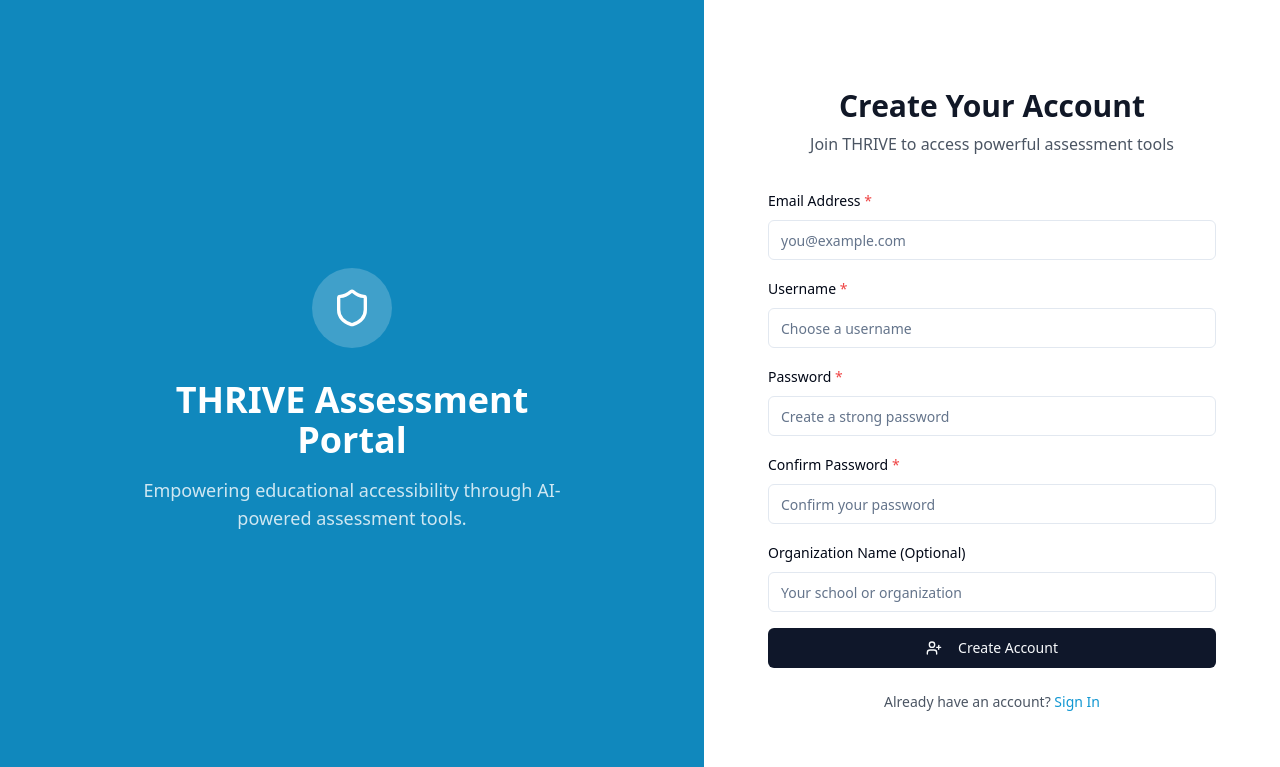
Scenario: Registration Components › RegistrationPage › validates password strength and shows error for weak password
The image size is (1280, 767).
Type "test@example.com" into the field with test id "input-email" at coordinates (992, 240), box [768,220,1216,260]
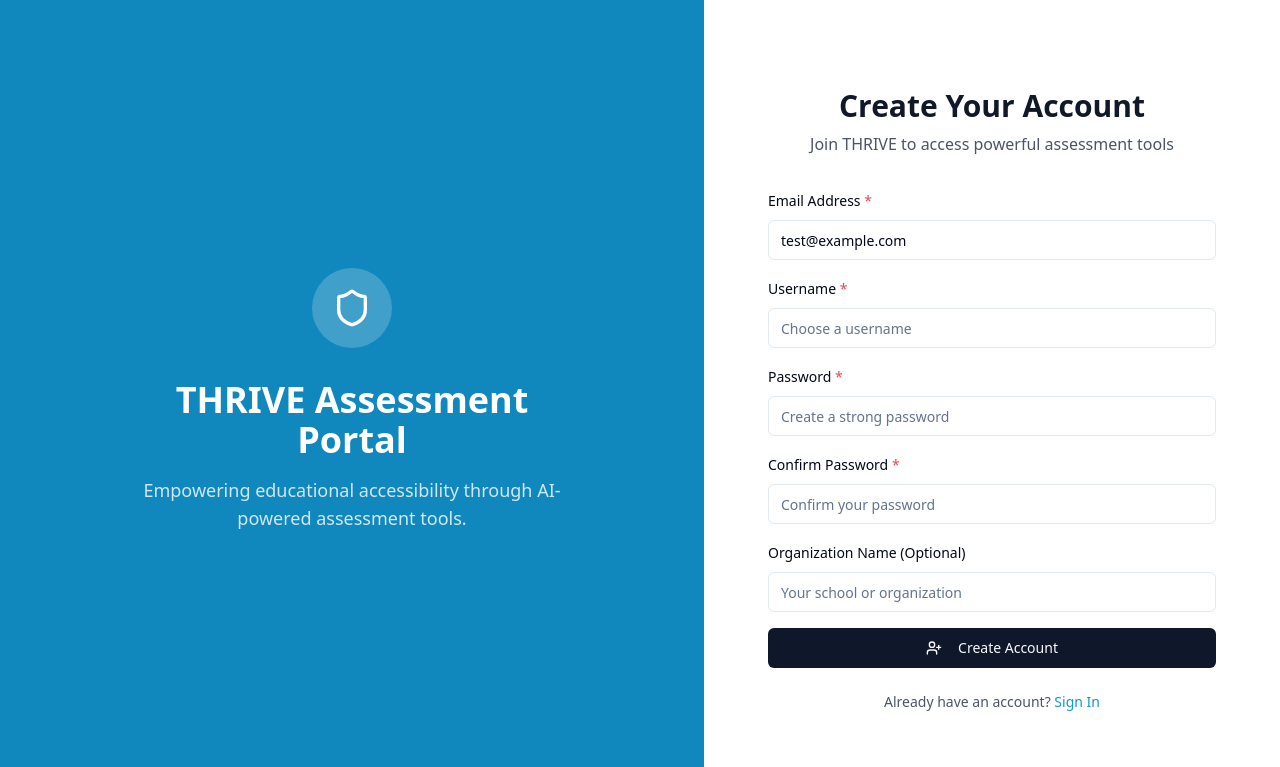
Type "testuser" into the field with test id "input-username" at coordinates (992, 328), box [768,308,1216,348]
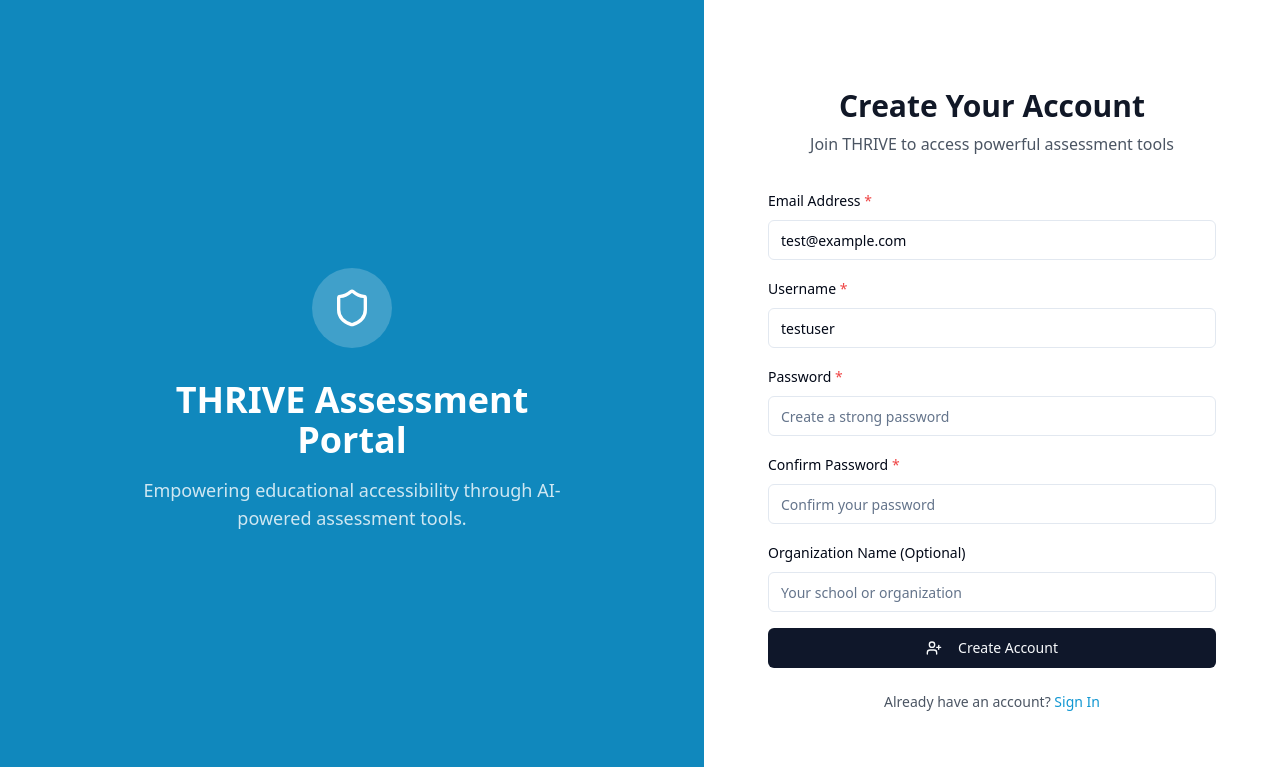
Type "weak" into the password field with test id "input-password" at coordinates (992, 416), box [768,396,1216,436]
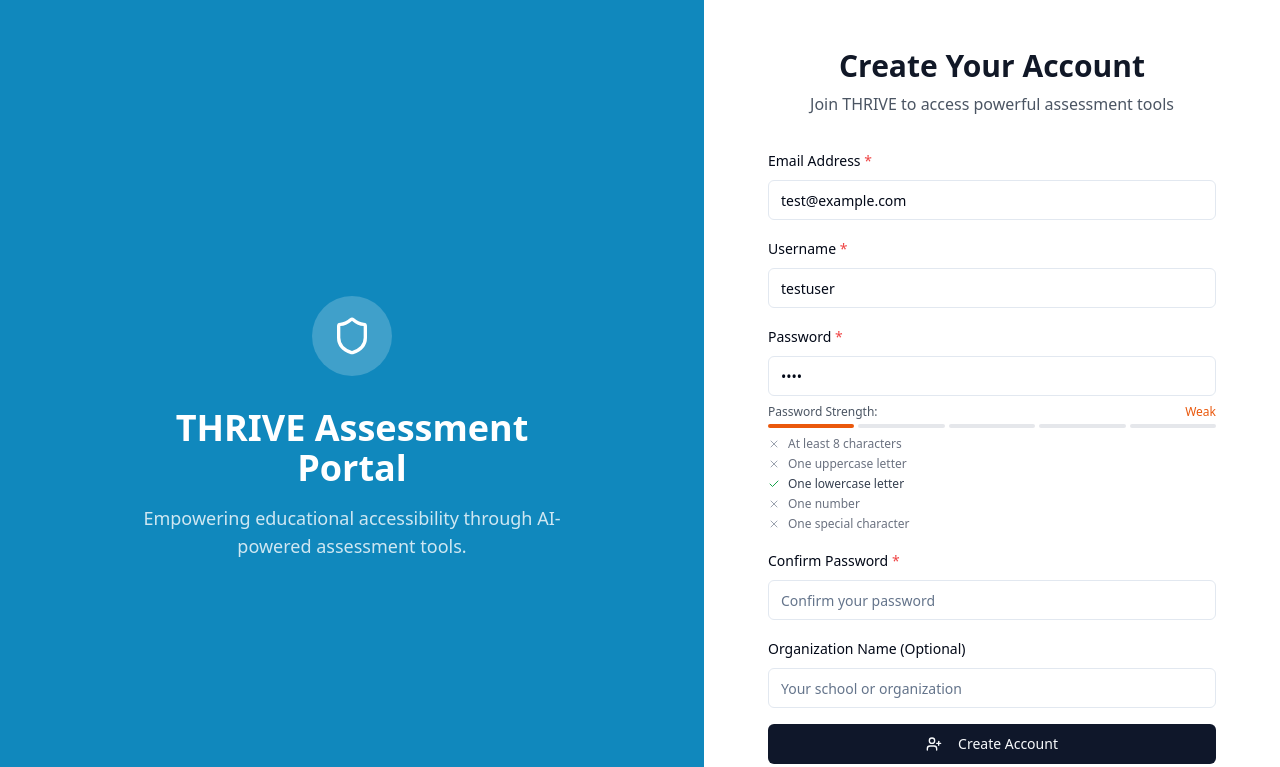
Type "weak" into the password field with test id "input-confirm-password" at coordinates (992, 600), box [768,580,1216,620]
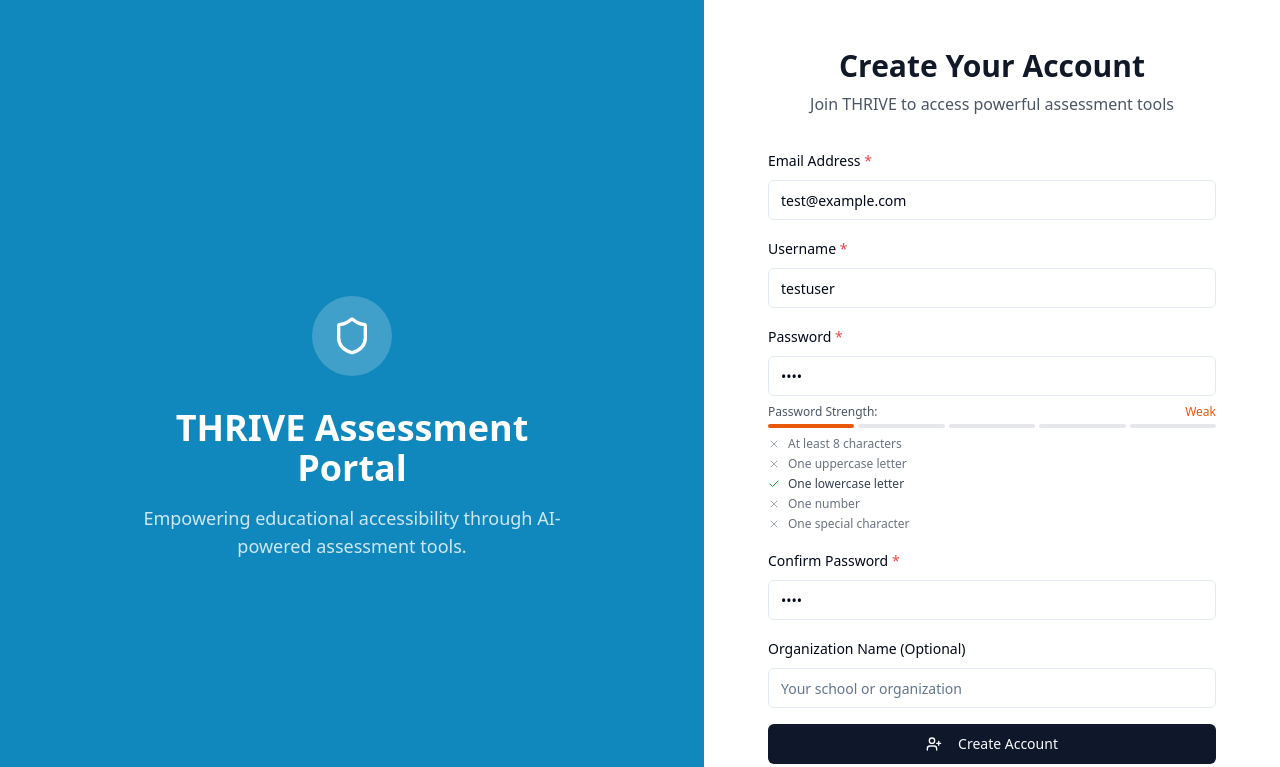
Click the button with test id "button-create-account" at coordinates (992, 744), box [768,724,1216,764]
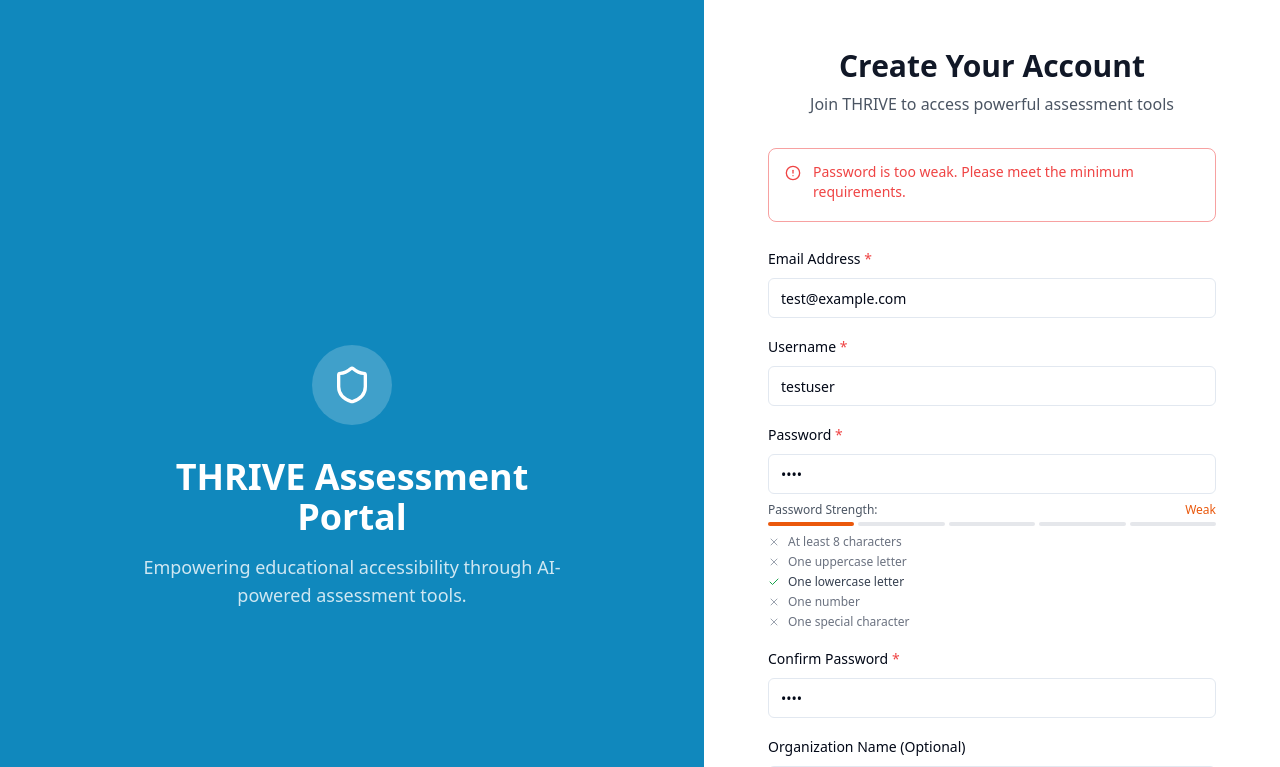
Check: the text "Password is too weak. Please meet the minimum requirements." is shown, box [813,162,1134,201]
